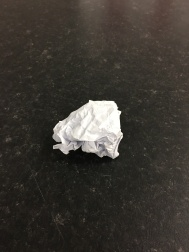paper_white: (35, 88, 152, 170)
